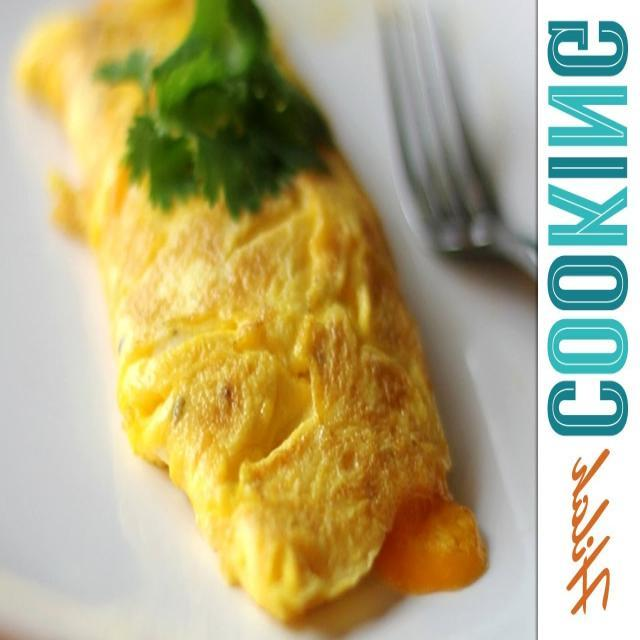telur_ayam_dadar: (16, 0, 485, 623)
